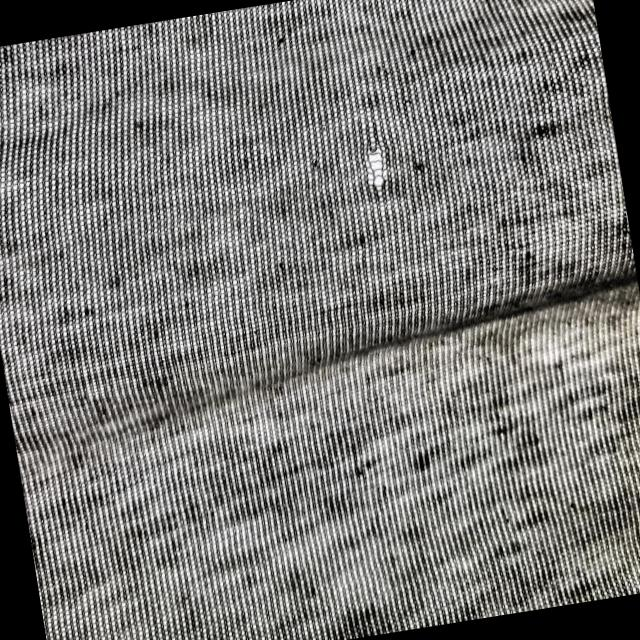cut: (352, 137, 396, 205)
